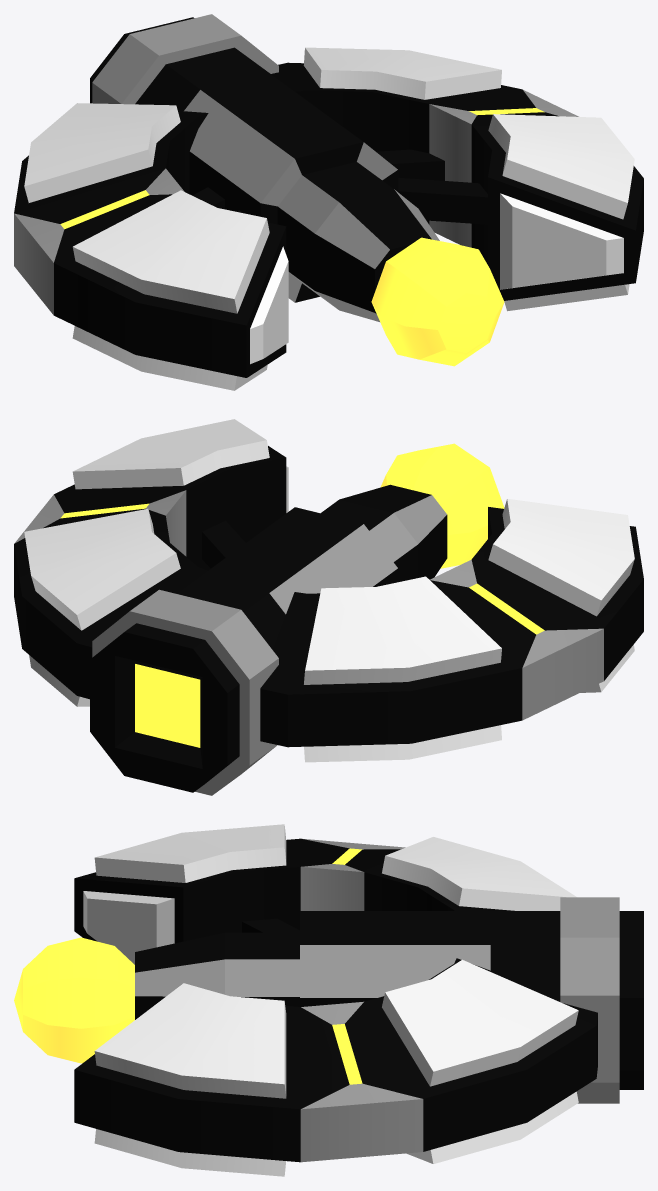
File: 01_ship_light_kana.glb
3 renders of one model, top to bottom at view 1: azimuth 30°, elevation 25°; view 2: azimuth 150°, elevation 25°; view 3: azimuth 270°, elevation 25°, orthographic.
Parts seen in each view (by area): view 1: 01_ship_light_kana; view 2: 01_ship_light_kana; view 3: 01_ship_light_kana.
Part boxes in pixels (box(x1,y1,x2,y2)): 01_ship_light_kana: box(14, 14, 643, 390); 01_ship_light_kana: box(14, 419, 643, 795); 01_ship_light_kana: box(14, 824, 643, 1176).
Size of the model in its own units: 1 by 0.2859 by 0.9837.
